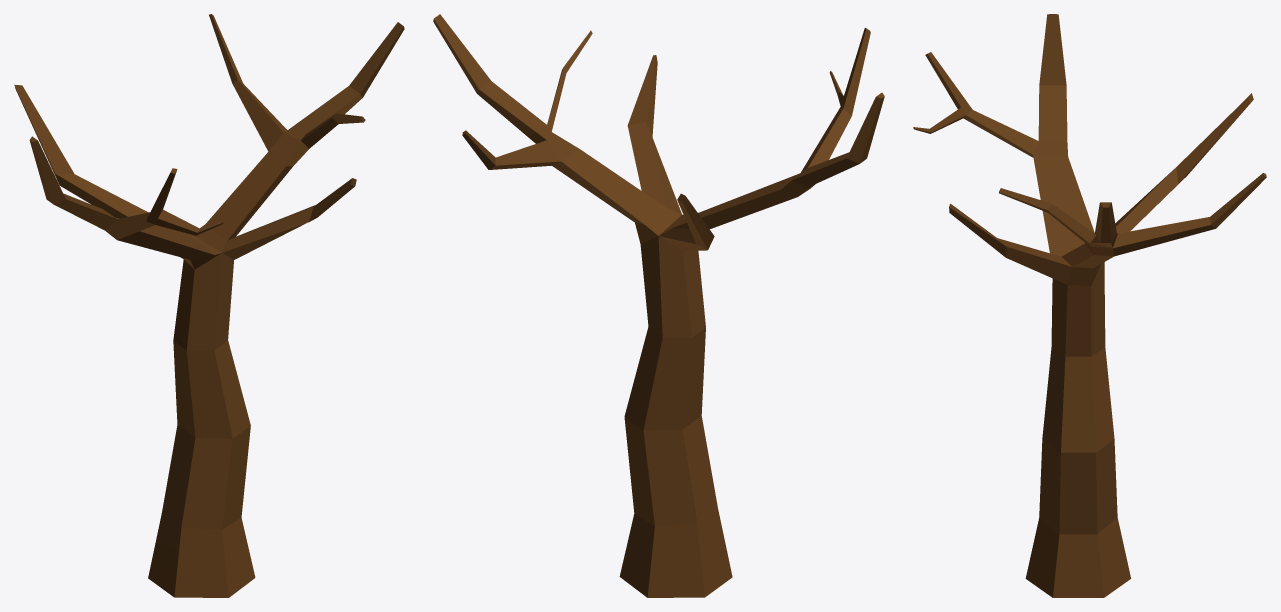
File: bare_tree.glb
The picture shows the model from 3 angles, left to right: view 1: azimuth 30°, elevation 25°; view 2: azimuth 150°, elevation 25°; view 3: azimuth 270°, elevation 25°; orthographic projection. The views are drawn at different scales.
Parts seen in each view (by area): view 1: Bare Tree; view 2: Bare Tree; view 3: Bare Tree.
Boxes of the visible parts, x1,y1,x2,y2 form: Bare Tree: [14, 14, 404, 597]; Bare Tree: [433, 14, 884, 597]; Bare Tree: [913, 14, 1266, 597].
Size of the model in its own units: 1.4 by 1.65 by 1.1.
